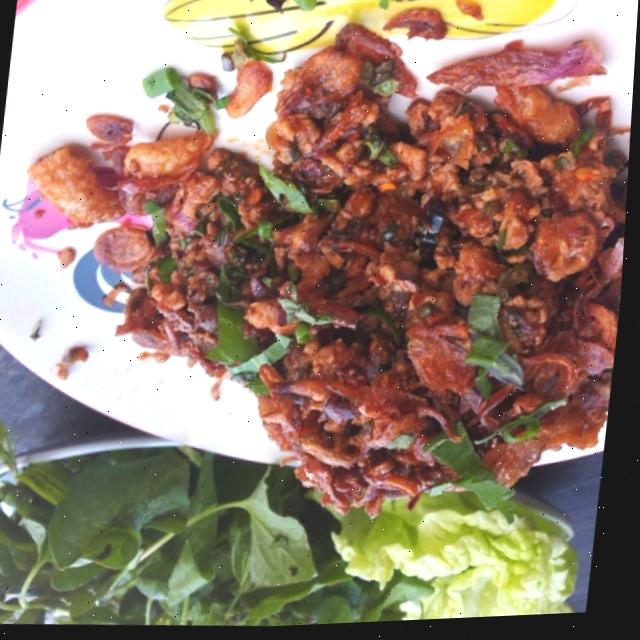鸡肉料理 含炸鸡: (0, 0, 639, 624)
